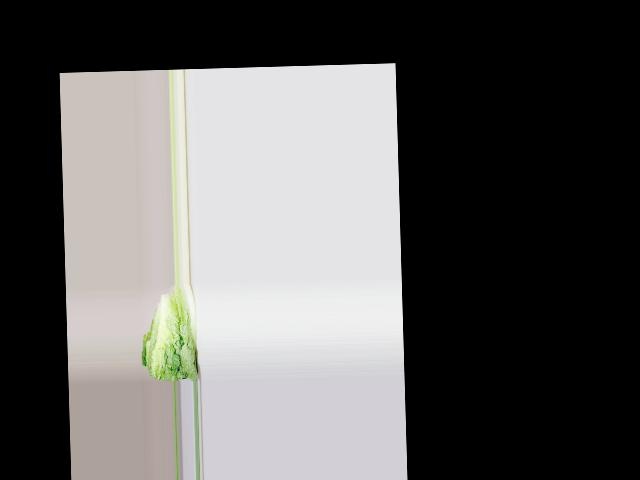lettuce: (146, 288, 200, 383)
